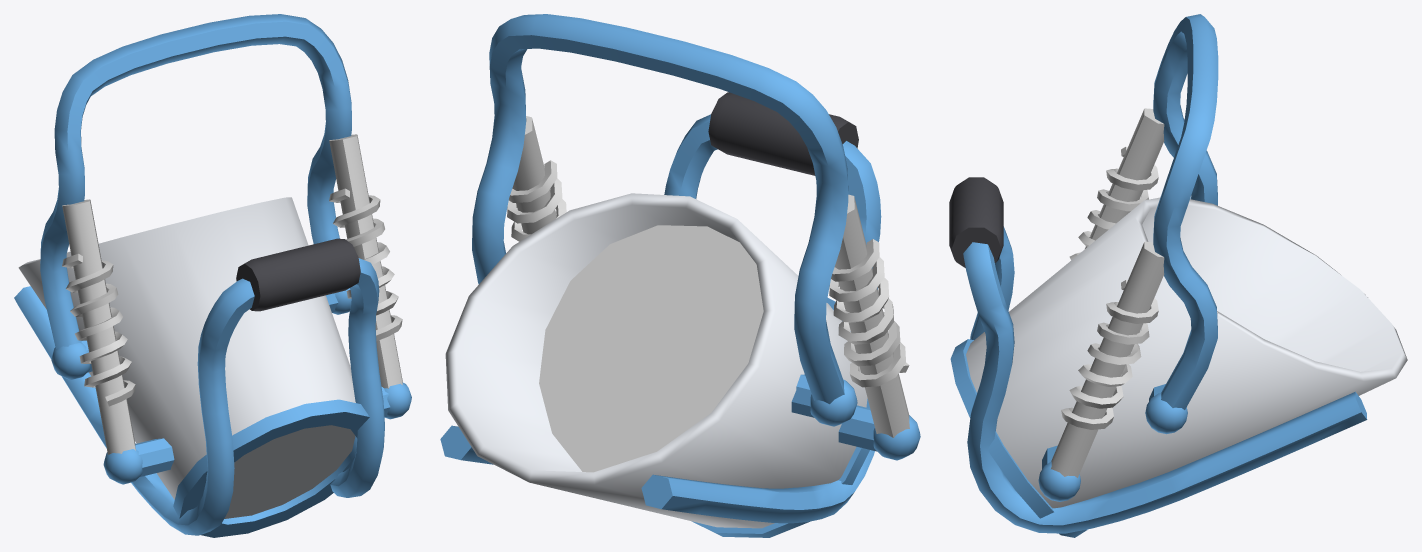
File: W_Bucket.fbx
3 renders of one model, left to right at view 1: azimuth 30°, elevation 25°; view 2: azimuth 150°, elevation 25°; view 3: azimuth 270°, elevation 25°, orthographic. The views are drawn at different scales.
Parts seen in each view (by area): view 1: Slosher_Body; view 2: Slosher_Body; view 3: Slosher_Body.
Boxes of the visible parts, bbox=[...] form: Slosher_Body: bbox=[14, 14, 411, 537]; Slosher_Body: bbox=[440, 14, 920, 537]; Slosher_Body: bbox=[949, 14, 1407, 537].
Size of the model in its own units: 62.04 by 87.37 by 77.35.
